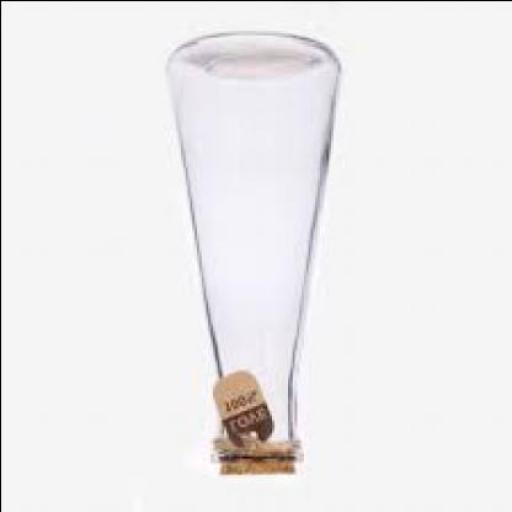glass: (164, 30, 337, 464)
